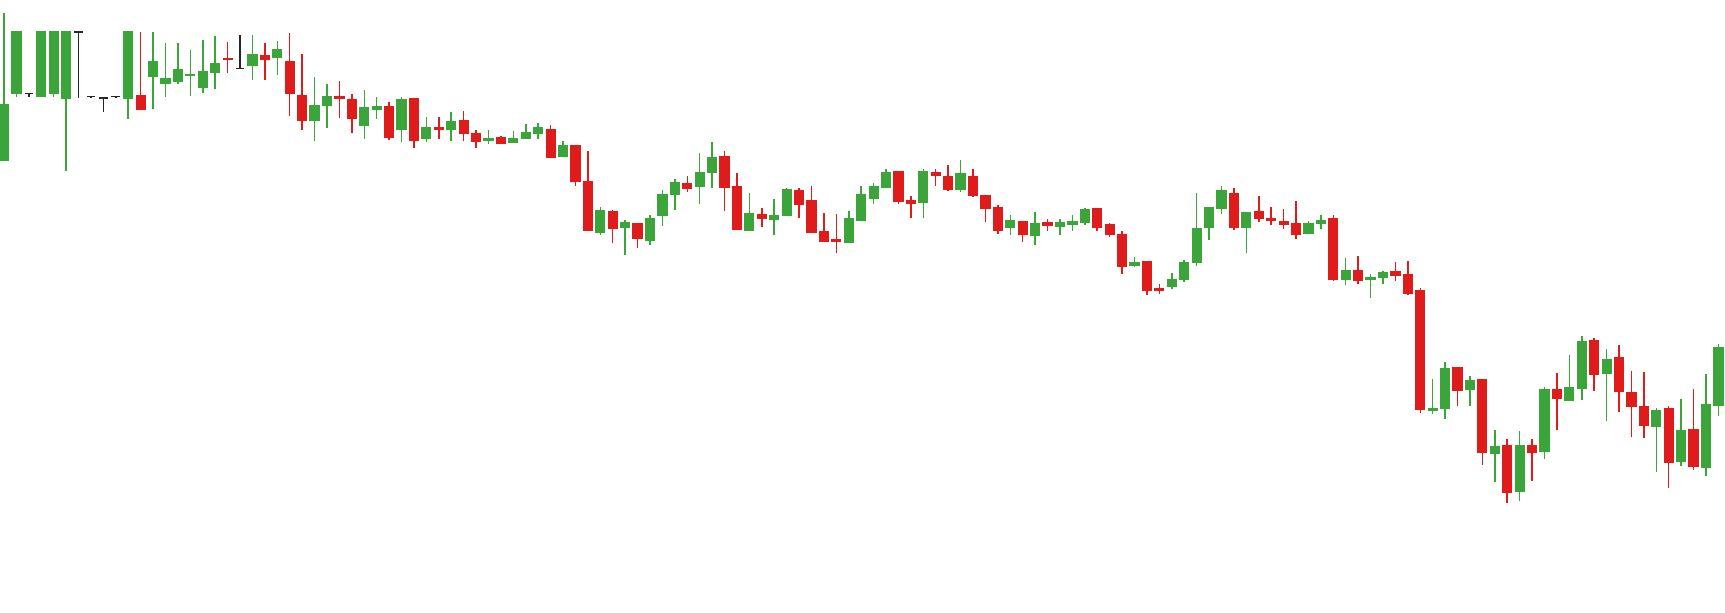sell: (782, 169, 905, 227)
